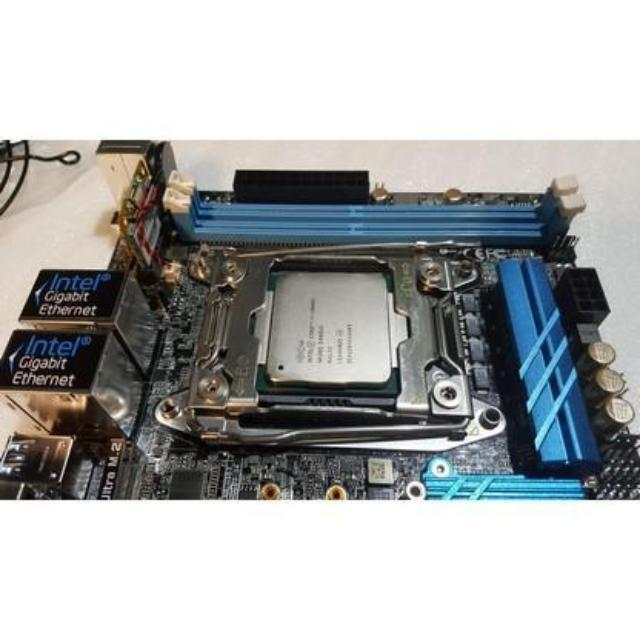CPU: (258, 258, 402, 390)
